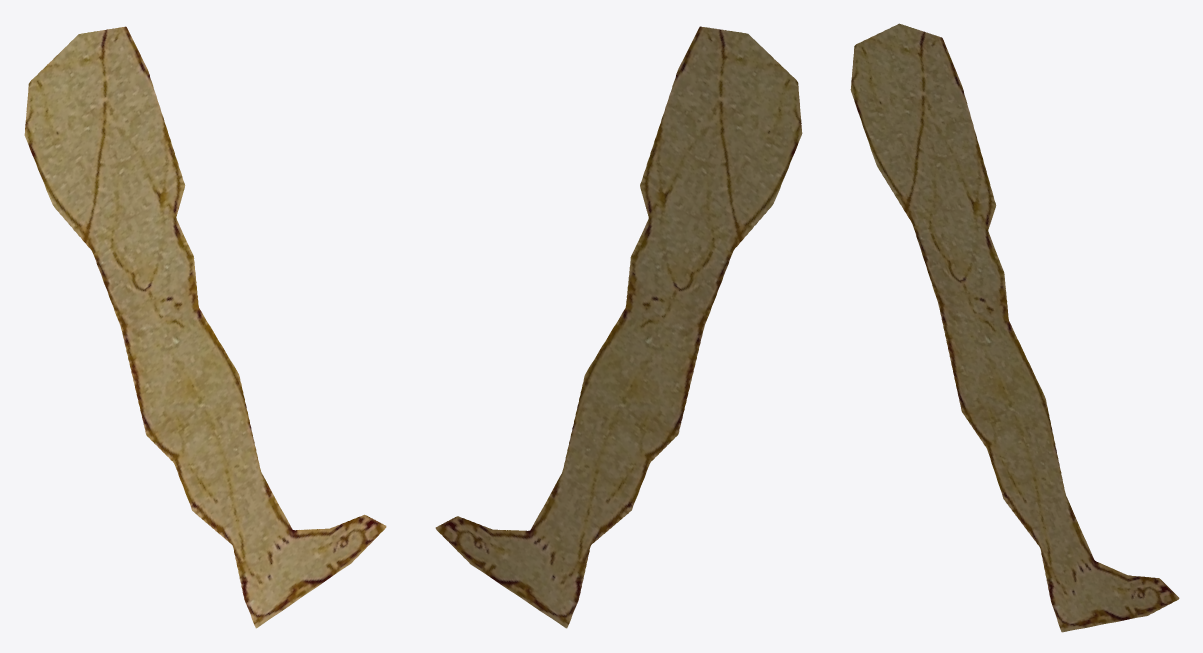
The model's file is leg_R.fbx.
3 views of the same model, side by side, from view 1: azimuth 30°, elevation 25°; view 2: azimuth 150°, elevation 25°; view 3: azimuth 330°, elevation 25° (orthographic). The views are drawn at different scales.
Visible parts, largest first — view 1: leg_R; view 2: leg_R; view 3: leg_R.
Boxes of the visible parts, <box> form: leg_R: <box>24,26,386,628</box>; leg_R: <box>435,26,802,628</box>; leg_R: <box>850,23,1179,632</box>.
Bounding box in the file's own units: 95.45 × 156 × 1.43.
